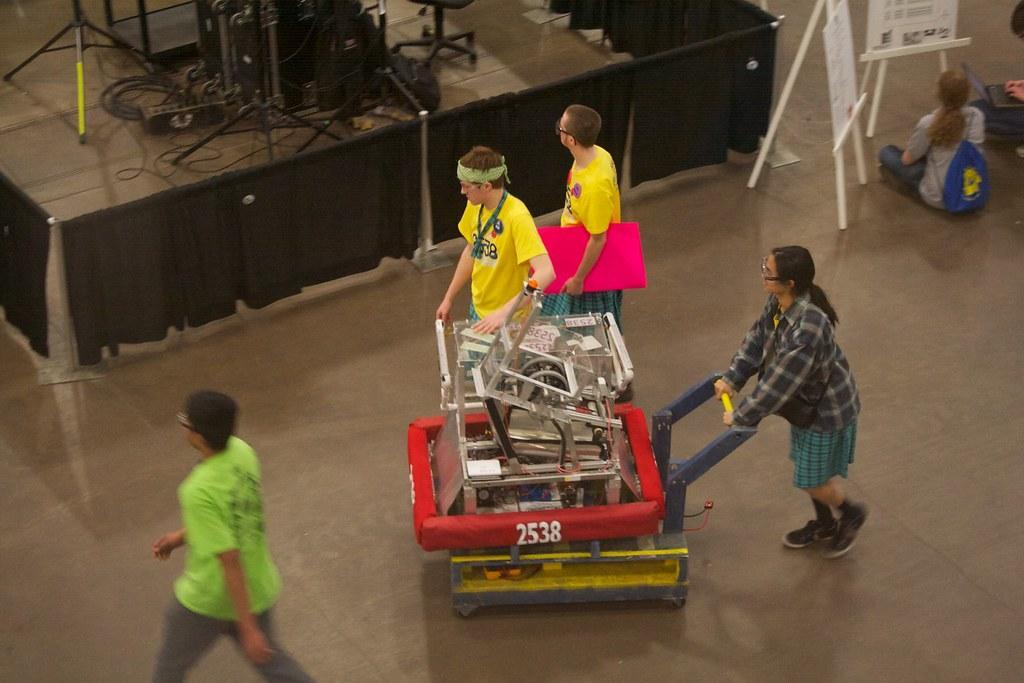robot: (399, 276, 667, 559)
